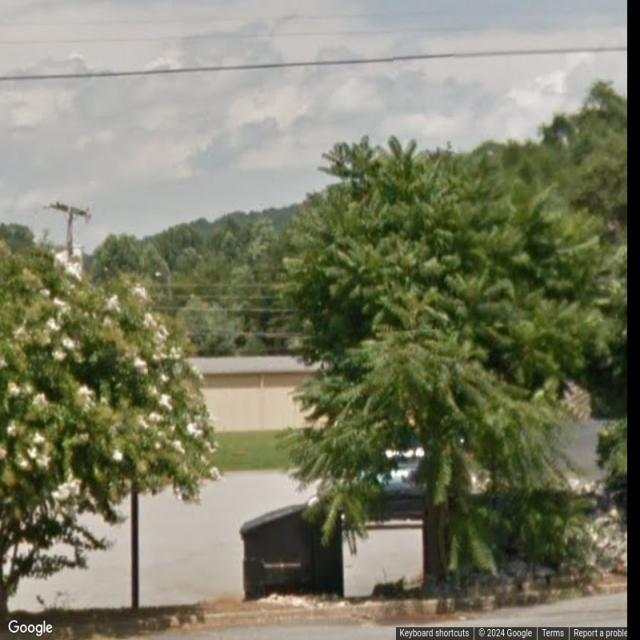House: (182, 355, 324, 434)
